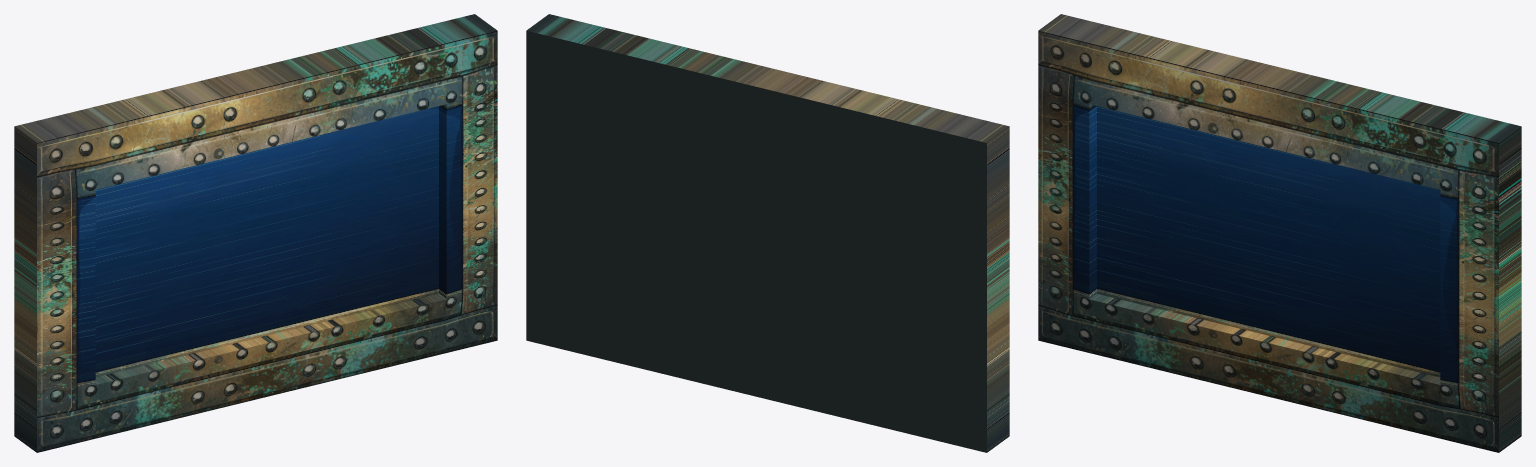
File: panel_show.glb
The picture shows the model from 3 angles, left to right: view 1: azimuth 30°, elevation 25°; view 2: azimuth 150°, elevation 25°; view 3: azimuth 330°, elevation 25°; orthographic projection.
Parts seen in each view (by area): view 1: panel_show; view 2: panel_show; view 3: panel_show.
Boxes of the visible parts, bbox=[...] form: panel_show: bbox=[14, 14, 497, 452]; panel_show: bbox=[526, 14, 1009, 452]; panel_show: bbox=[1038, 14, 1521, 452].
Bounding box in the file's own units: 0.42 × 0.27 × 0.042.
1 material, 1 textured.
